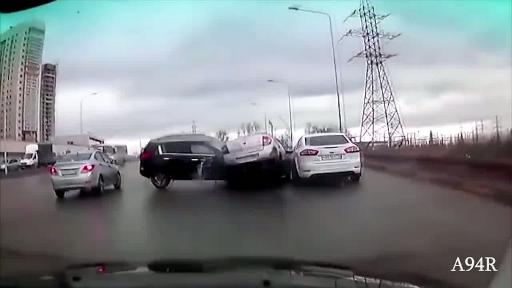Accident: (93, 82, 366, 208), (218, 116, 372, 199)
CAR: (37, 129, 117, 216)
